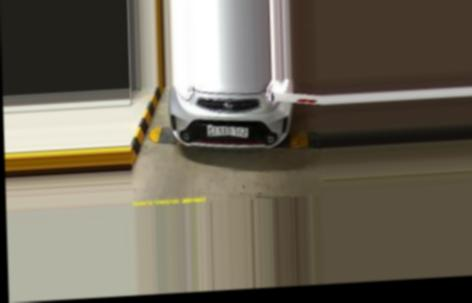License_Plate: (206, 121, 253, 141)
